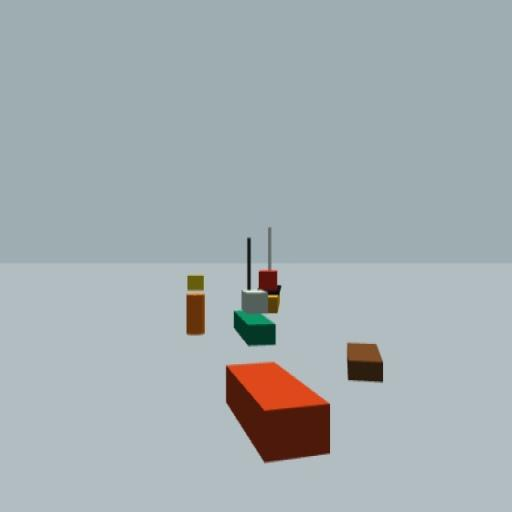buoy: (186, 273, 206, 335)
debris_container: (226, 360, 332, 464), (346, 340, 384, 380)
fishing_boat: (234, 236, 276, 346)
